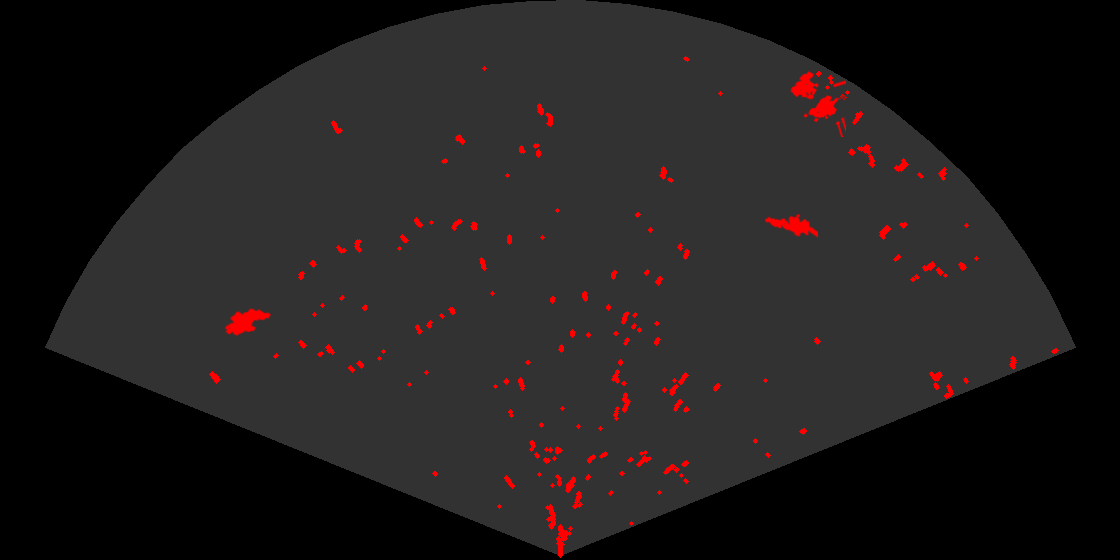AUV: (223, 306, 273, 337)
cage: (789, 69, 846, 137)
frogman: (763, 212, 818, 240)
